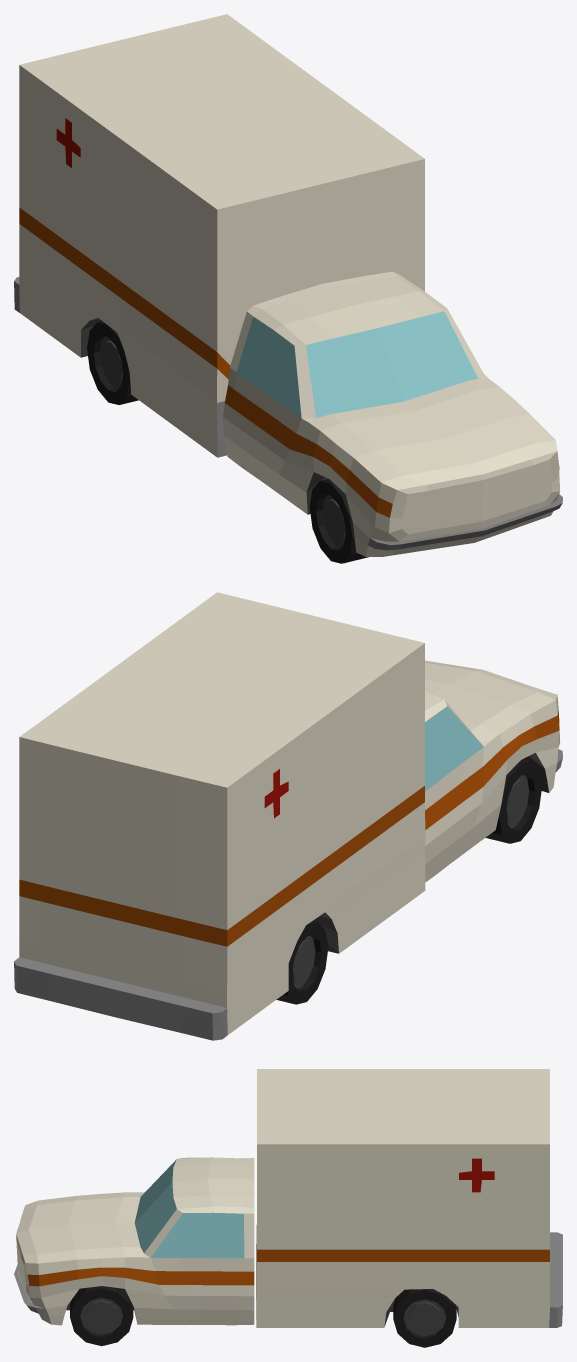
File: MM_Level2_Ambulance.fbx
The picture shows the model from 3 angles, top to bottom: view 1: azimuth 30°, elevation 25°; view 2: azimuth 150°, elevation 25°; view 3: azimuth 270°, elevation 25°; orthographic projection. The views are drawn at different scales.
Parts seen in each view (by area): view 1: Ambulance; view 2: Ambulance; view 3: Ambulance.
Boxes of the visible parts, box(x1,y1,x2,y2) form: Ambulance: box(14, 14, 562, 563); Ambulance: box(14, 592, 562, 1040); Ambulance: box(14, 1069, 562, 1347).
Size of the model in its own units: 452 by 575 by 1394.
